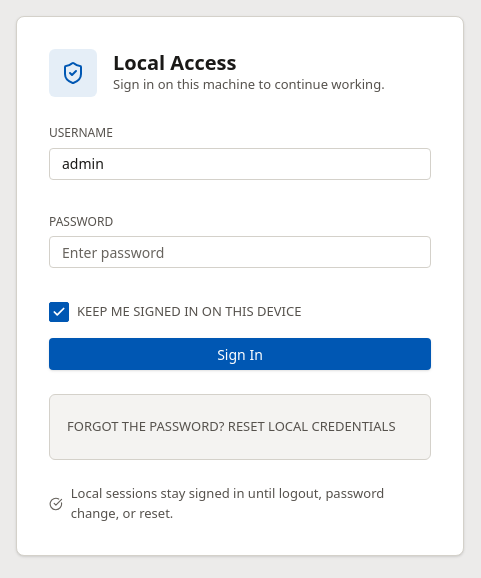
Test case: login (SPEC-15 PR 1) › a wrong password shows the server's plain message at the field and stays on the login
Type "nope" into the password field labelled "Password" at [240, 252], box [49,236,431,268]
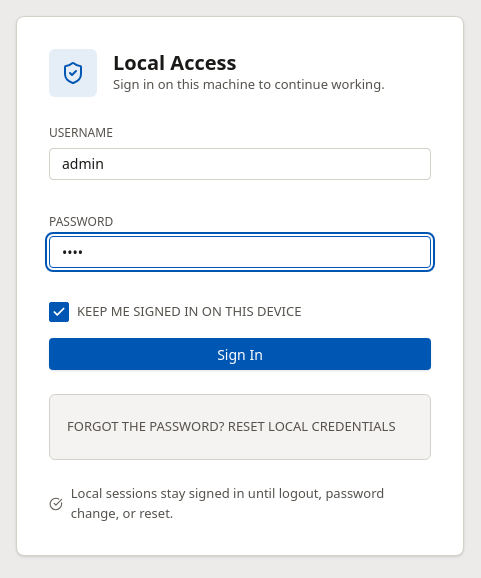
Click the button "Sign In" at [240, 354], box [49,338,431,370]
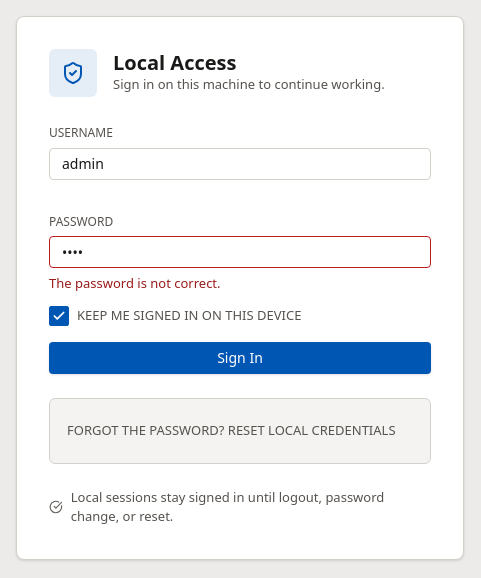
Expected: the text "The password is not correct." is shown, [49,274,221,292]
